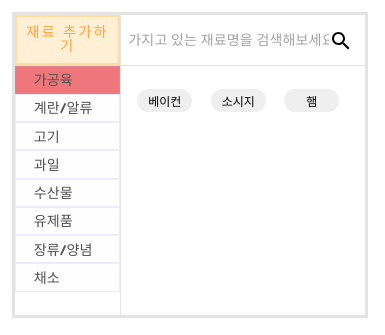
it: AddIngredient › should render a sorted list of 5 ingredients for the clicked 고기 category
Click the button "고기" at (68, 136), box top-left (15, 122), bottom-right (120, 150)
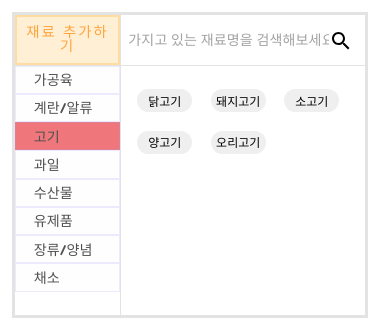
Check: the button "오리고기" is shown, box top-left (211, 131), bottom-right (266, 154)
